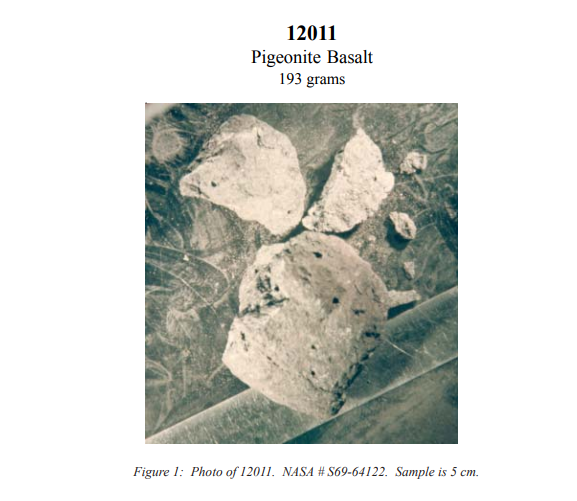Basalt: (215, 246, 421, 414), (185, 113, 416, 232)
